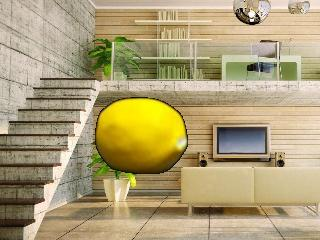lemon: (95, 98, 187, 173)
